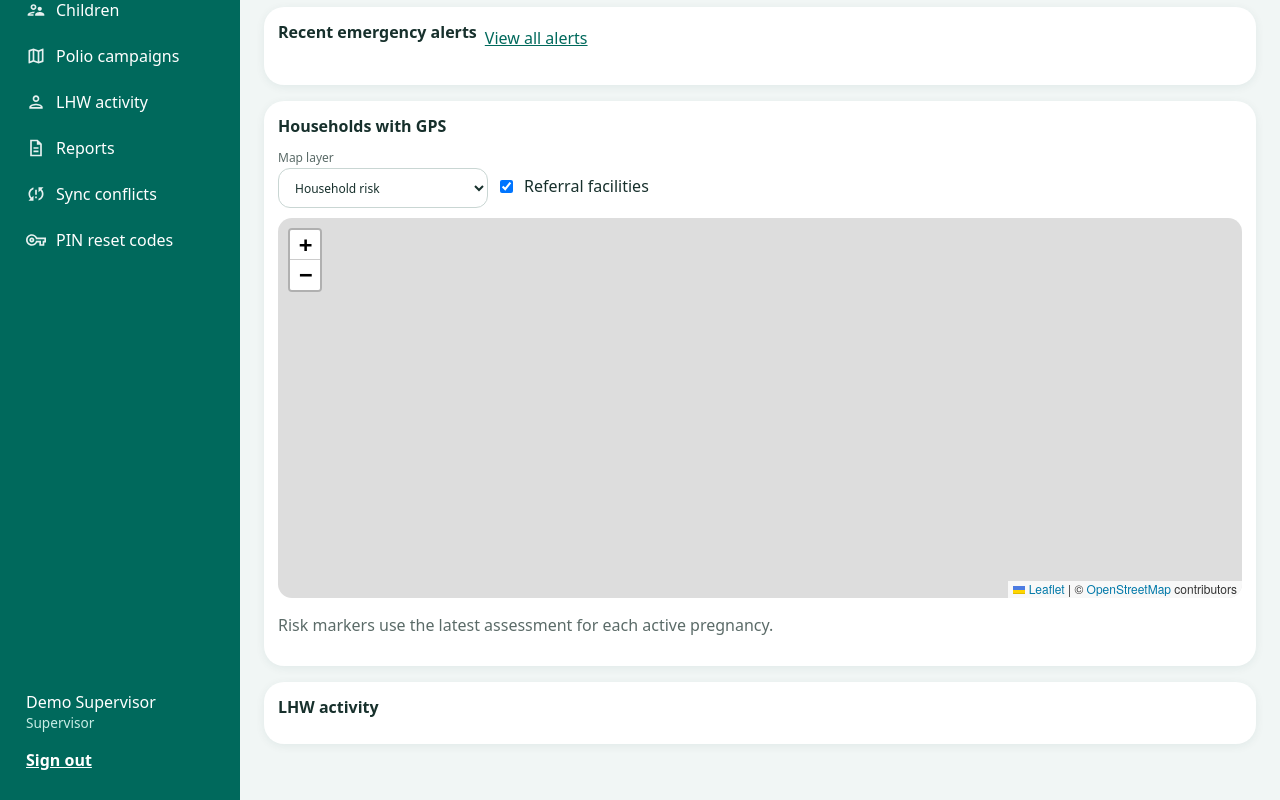
it: sign out › clears the session, revokes the refresh token and returns to the login page
The image size is (1280, 800).
(page scrolled)
Click the button "Sign out" at (59,760), box [26,740,92,780]
(page scrolled)
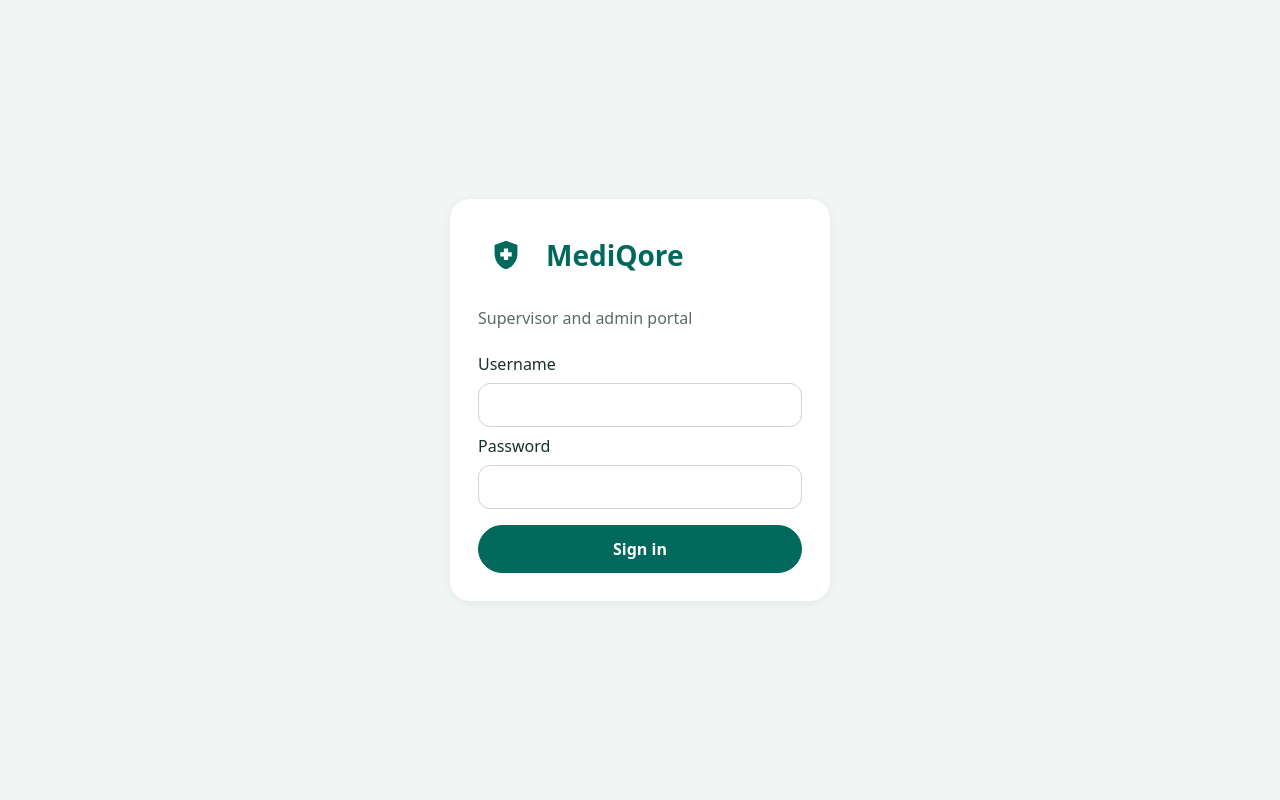
Check: the field labelled "Username" is shown, box [478,383,802,427]
